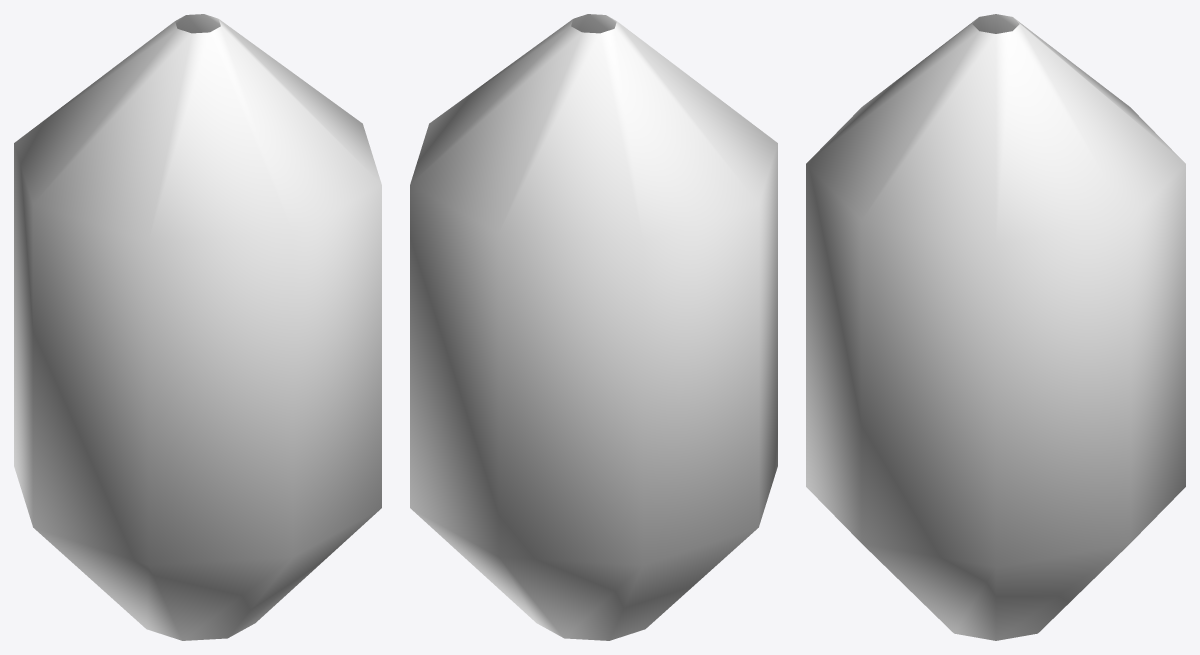
File: lantern_glow.glb
The picture shows the model from 3 angles, left to right: view 1: azimuth 30°, elevation 25°; view 2: azimuth 150°, elevation 25°; view 3: azimuth 270°, elevation 25°; orthographic projection.
Visible parts, largest first — view 1: LanternGlow; view 2: LanternGlow; view 3: LanternGlow.
Part boxes in pixels (x1,y1,x2,y2): LanternGlow: [14, 14, 381, 640]; LanternGlow: [410, 14, 777, 640]; LanternGlow: [806, 14, 1185, 640].
Bounding box in the file's own units: 0.32 × 0.55 × 0.32.
Materials: 1 (1 with a texture image).
